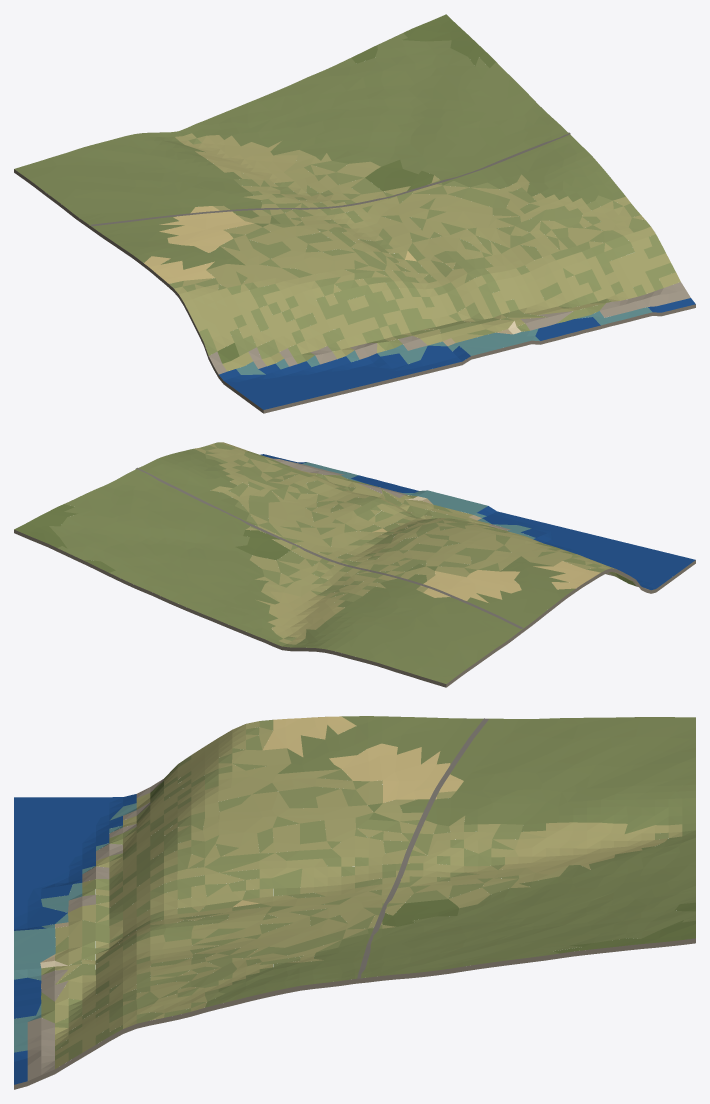
File: parca_+2_-9-uzak.glb
3 views of the same model, one above another, from view 1: azimuth 30°, elevation 25°; view 2: azimuth 150°, elevation 25°; view 3: azimuth 270°, elevation 25° (orthographic). The views are drawn at different scales.
Visible parts, largest first — view 1: parca_+2_-9_arazi_uzak, parca_+2_-9_yollar_uzak; view 2: parca_+2_-9_arazi_uzak, parca_+2_-9_yollar_uzak; view 3: parca_+2_-9_arazi_uzak, parca_+2_-9_yollar_uzak.
Part boxes in pixels (box(x1,y1,x2,y2)): parca_+2_-9_arazi_uzak: box(14, 14, 695, 413); parca_+2_-9_yollar_uzak: box(91, 132, 570, 226); parca_+2_-9_arazi_uzak: box(14, 442, 695, 687); parca_+2_-9_yollar_uzak: box(135, 467, 523, 628); parca_+2_-9_arazi_uzak: box(14, 716, 695, 1089); parca_+2_-9_yollar_uzak: box(357, 718, 488, 978).
Bounding box in the file's own units: 1002 × 246 × 1000.
